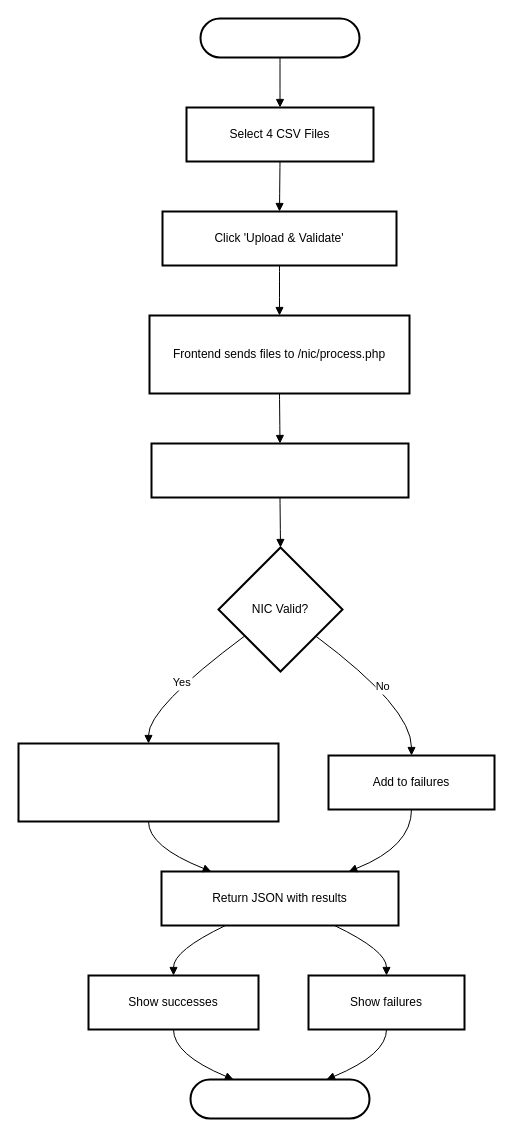
The diagram is 512 pixels wide and 1136 high, and some of its shapes have lost their labels. Here are the shapes that lost their labels. From the top down, the box of each, then its label:
(199, 17, 360, 58): Start: Upload Page
(150, 442, 409, 498): Backend loops through files
(17, 742, 279, 822): Save to DB + add to successes
(189, 1078, 370, 1119): End: User sees report
